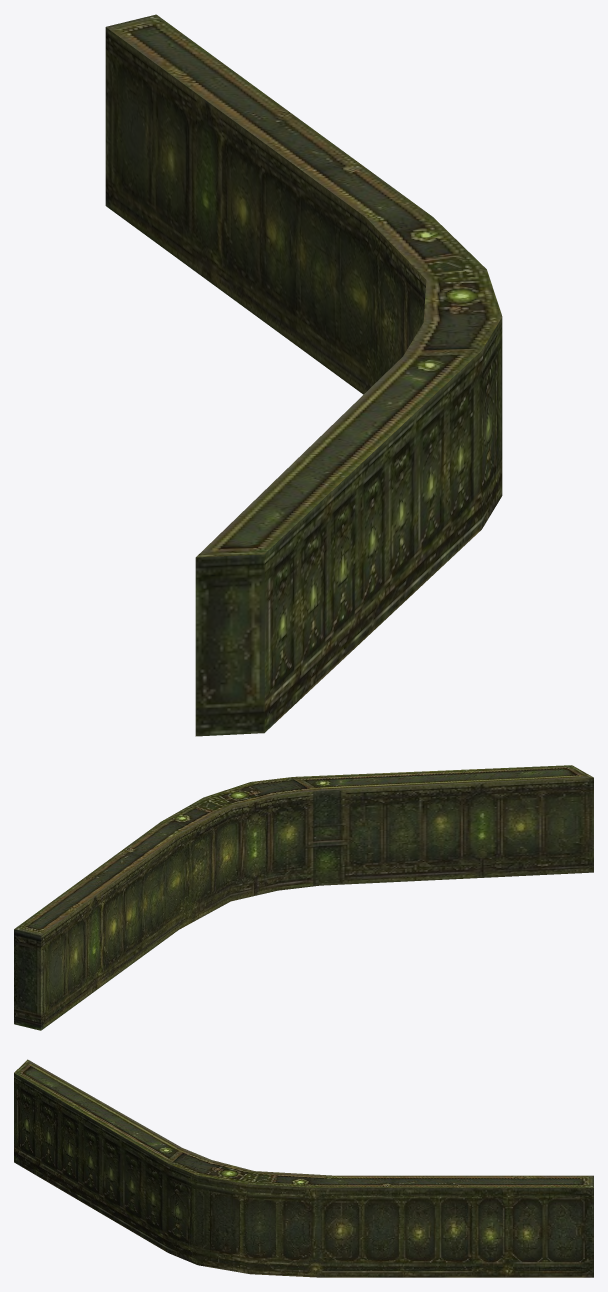
File: ramp_pale_down_right_death_lvl_1.glb
3 views of the same model, one above another, from view 1: azimuth 30°, elevation 25°; view 2: azimuth 150°, elevation 25°; view 3: azimuth 270°, elevation 25° (orthographic). The views are drawn at different scales.
Visible parts, largest first — view 1: Mesh_0.011; view 2: Mesh_0.011; view 3: Mesh_0.011.
Part boxes in pixels (x1,y1,x2,y2): Mesh_0.011: (105, 14, 502, 736); Mesh_0.011: (14, 765, 593, 1030); Mesh_0.011: (14, 1059, 593, 1277).
Size of the model in its own units: 0.1283 by 0.0416 by 0.2445.
Materials: 1 (1 with a texture image).
